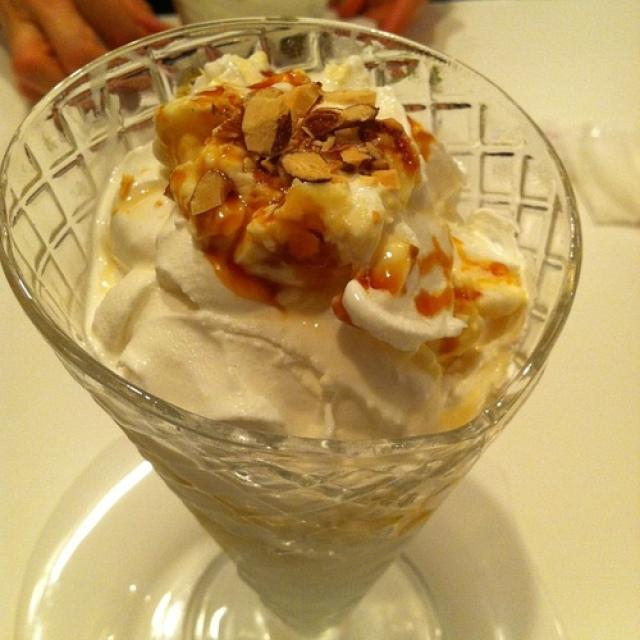蛋糕甜品: (54, 21, 571, 554)
